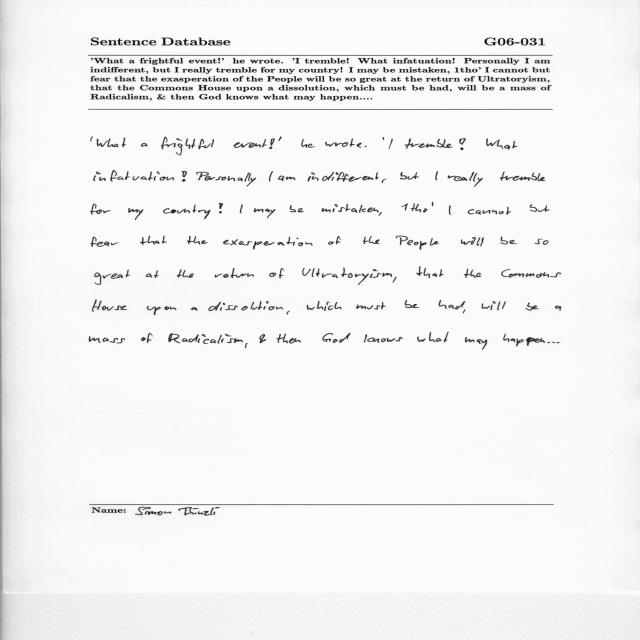word: (302, 267, 392, 285), (223, 237, 312, 250), (161, 137, 214, 156), (94, 170, 174, 182), (196, 172, 256, 187), (168, 333, 243, 344), (208, 301, 283, 311), (307, 172, 379, 182), (163, 205, 211, 219), (396, 236, 439, 250), (501, 269, 561, 278), (405, 138, 453, 149), (448, 172, 483, 187), (95, 270, 130, 285), (321, 204, 379, 213), (233, 138, 275, 149), (92, 300, 127, 312), (500, 172, 545, 181), (215, 268, 254, 278), (487, 138, 518, 150), (325, 138, 362, 148), (401, 202, 434, 213), (417, 332, 449, 343), (364, 334, 403, 343), (468, 207, 511, 215), (307, 301, 341, 311), (416, 267, 444, 278), (97, 138, 126, 148), (322, 333, 351, 343), (465, 337, 487, 350), (503, 334, 524, 347), (91, 237, 118, 247), (147, 306, 176, 315), (526, 337, 555, 346), (439, 300, 465, 310), (89, 337, 125, 344), (276, 334, 301, 344), (140, 236, 167, 245), (356, 302, 386, 310), (461, 237, 484, 247), (481, 301, 506, 310), (91, 204, 111, 215), (254, 208, 275, 218), (128, 208, 144, 220), (270, 268, 285, 279), (530, 204, 550, 212), (187, 236, 207, 244), (177, 269, 194, 278), (464, 269, 481, 278), (400, 172, 419, 180), (501, 237, 518, 245), (363, 236, 379, 244), (141, 333, 153, 343), (328, 236, 341, 245), (405, 300, 419, 308), (525, 303, 539, 311), (146, 270, 159, 278), (290, 205, 304, 212), (278, 176, 295, 181), (459, 138, 466, 150), (535, 239, 549, 245), (182, 171, 187, 182), (302, 139, 308, 148), (260, 334, 266, 343), (389, 139, 393, 150), (269, 171, 273, 182), (219, 203, 223, 213), (555, 306, 561, 311), (308, 144, 315, 148), (435, 171, 438, 180), (240, 205, 243, 214), (141, 143, 147, 147), (393, 277, 397, 283), (191, 307, 197, 311), (382, 179, 387, 183), (449, 205, 451, 215), (278, 137, 282, 141), (245, 343, 248, 348), (379, 212, 382, 216), (287, 311, 290, 315), (463, 310, 466, 314), (91, 137, 93, 142), (383, 137, 384, 140), (557, 342, 560, 343), (365, 146, 367, 147)
